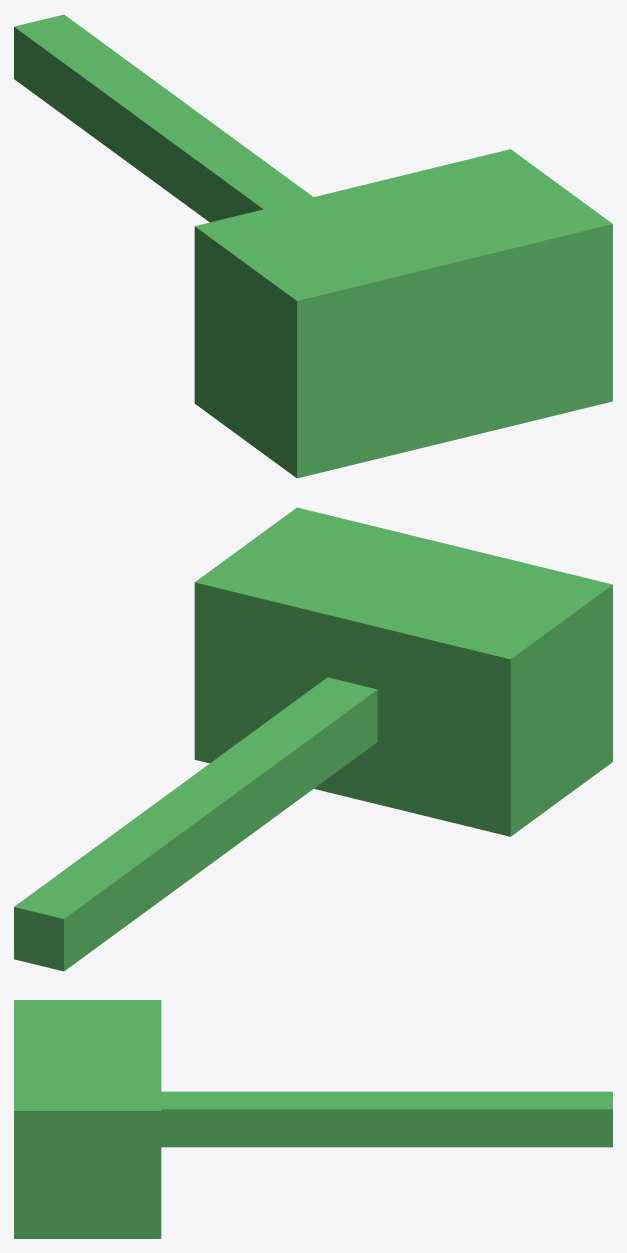
The model's file is colossus_maul_collision.glb.
3 renders of one model, top to bottom at view 1: azimuth 30°, elevation 25°; view 2: azimuth 150°, elevation 25°; view 3: azimuth 270°, elevation 25°, orthographic. The views are drawn at different scales.
Visible parts, largest first — view 1: colossus_maul-col-head, colossus_maul-col-haft; view 2: colossus_maul-col-head, colossus_maul-col-haft; view 3: colossus_maul-col-head, colossus_maul-col-haft.
Part boxes in pixels (x1,y1,x2,y2): colossus_maul-col-head: [194, 149, 612, 478]; colossus_maul-col-haft: [14, 14, 313, 222]; colossus_maul-col-head: [194, 507, 612, 836]; colossus_maul-col-haft: [14, 677, 377, 971]; colossus_maul-col-head: [14, 1000, 161, 1238]; colossus_maul-col-haft: [161, 1091, 612, 1147].
Size of the model in its own units: 0.82 by 0.44 by 1.87.
